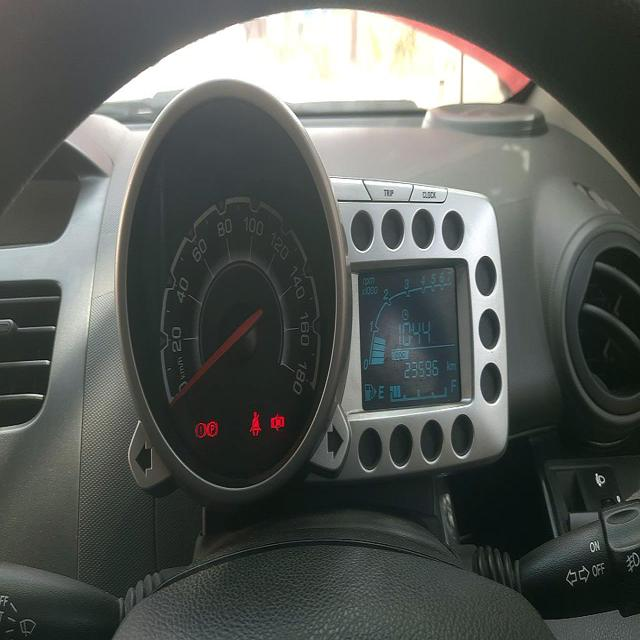odometer: (403, 357, 440, 379)
